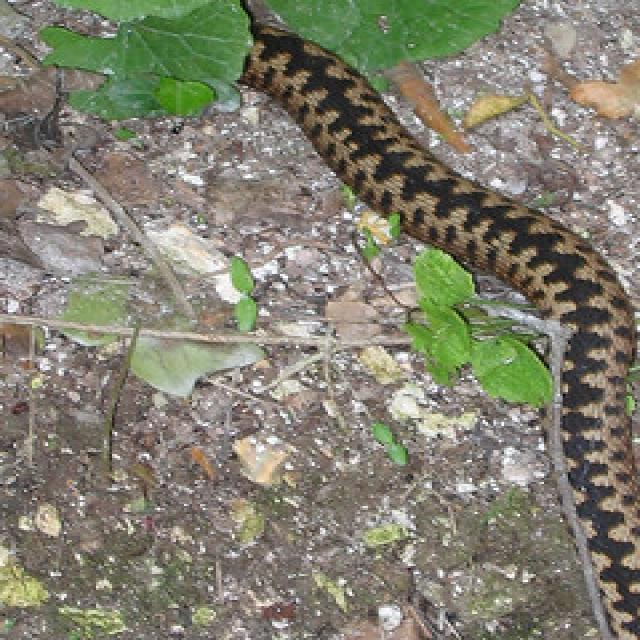snake: (226, 0, 640, 640)
